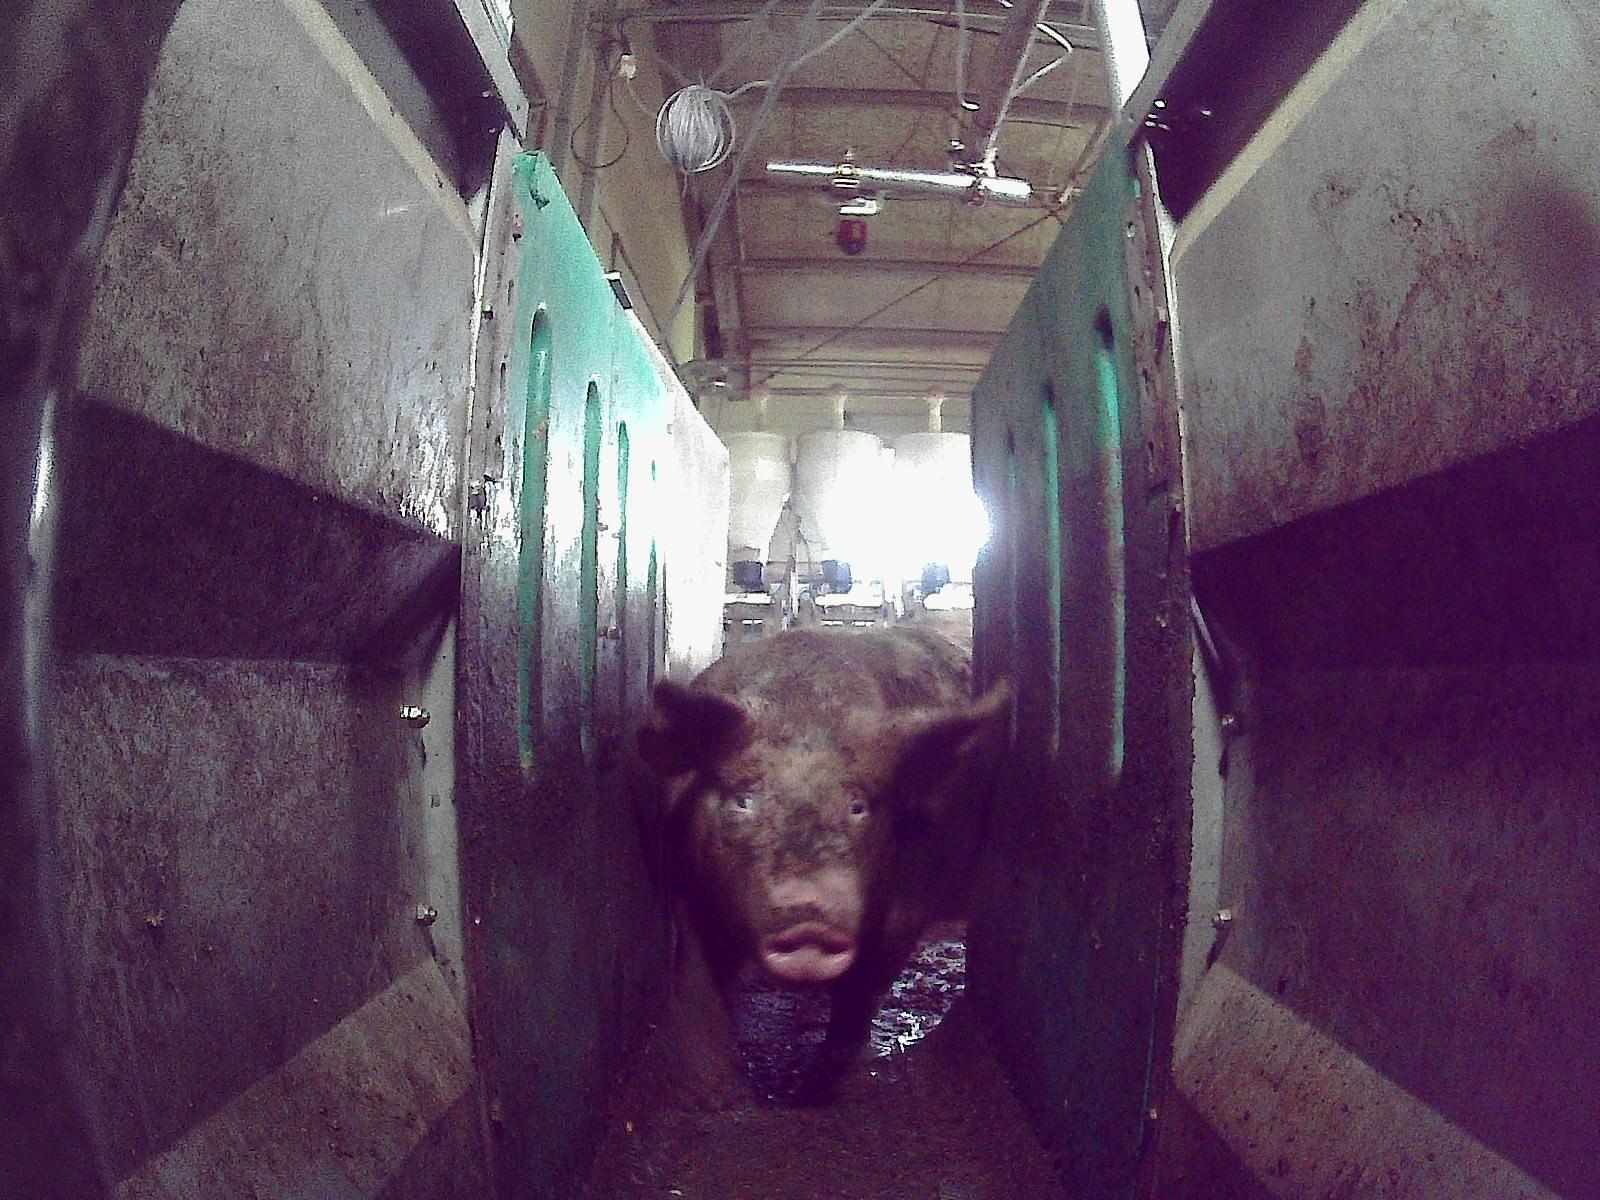Face: (684, 716, 891, 985)
